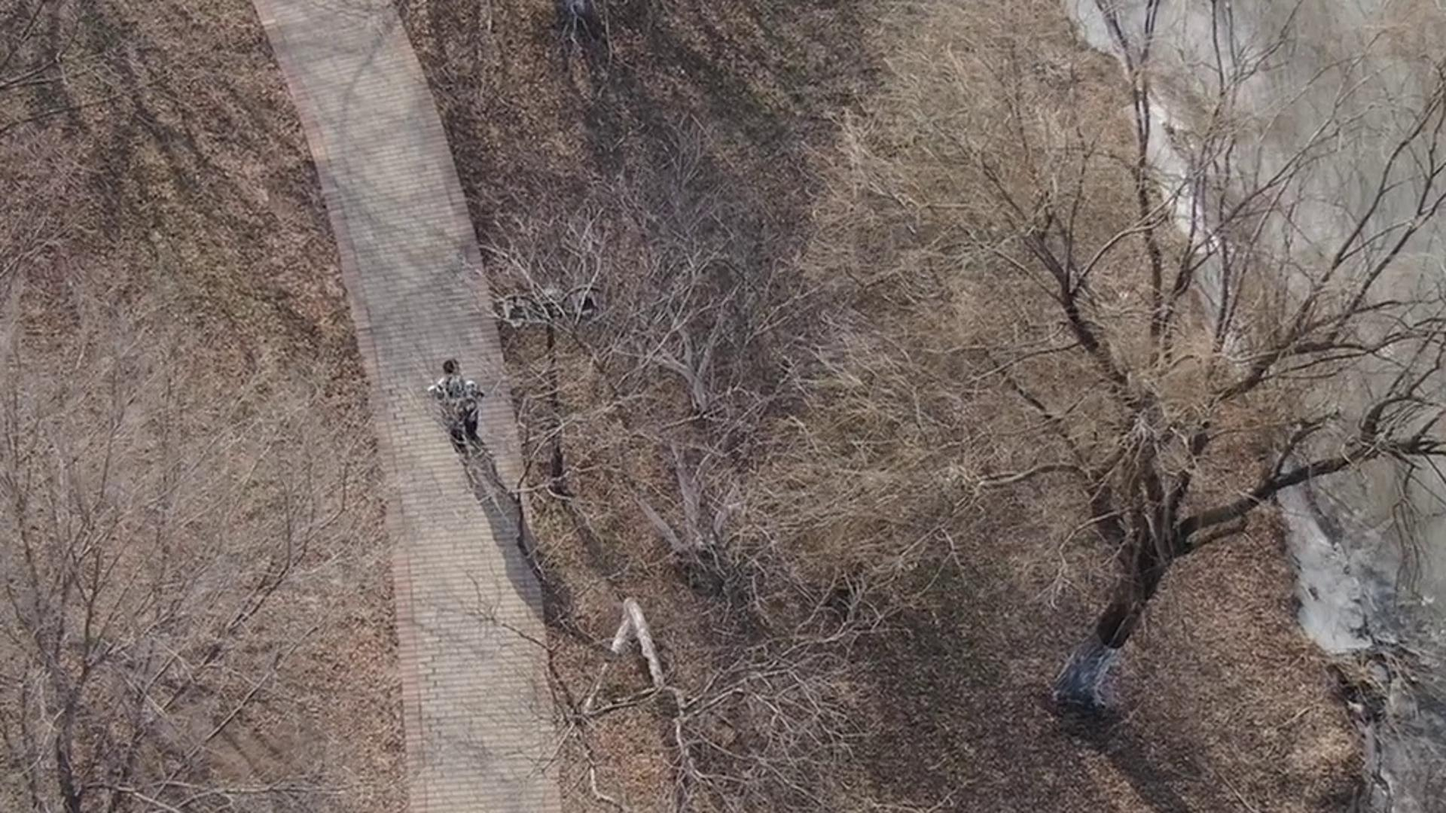human: (407, 359, 456, 454)
